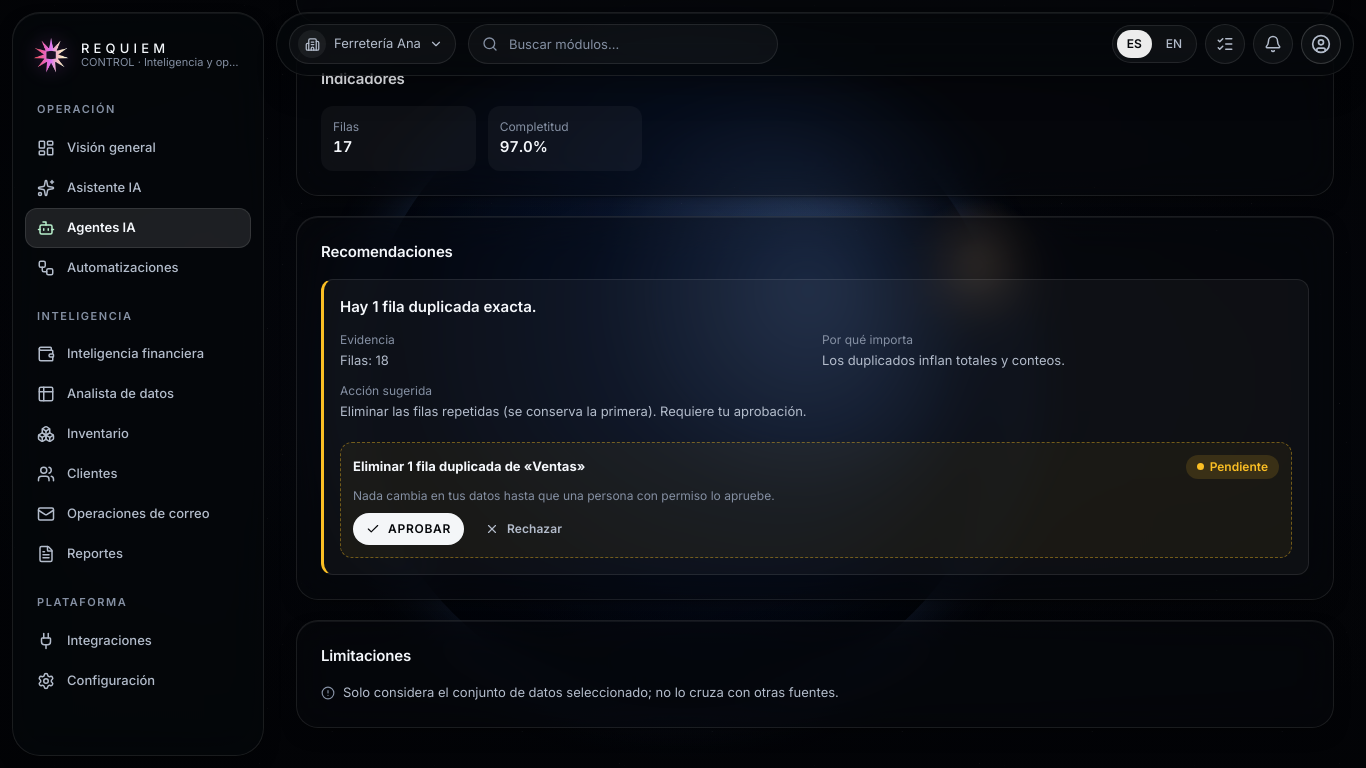
it: AI agents › labels simulated summaries and lets an admin approve a proposed action
(page scrolled)
Expected: the text "Hay 1 fila duplicada exacta." is shown, [340,297,537,316]
Expected: the text "Filas: 18" is shown, [340,352,389,368]
What coordinates should you click on to do the following:
click the button "Aprobar"
I would click on:
 (408, 528)
Its box is [353,512,464,544].
(page scrolled)
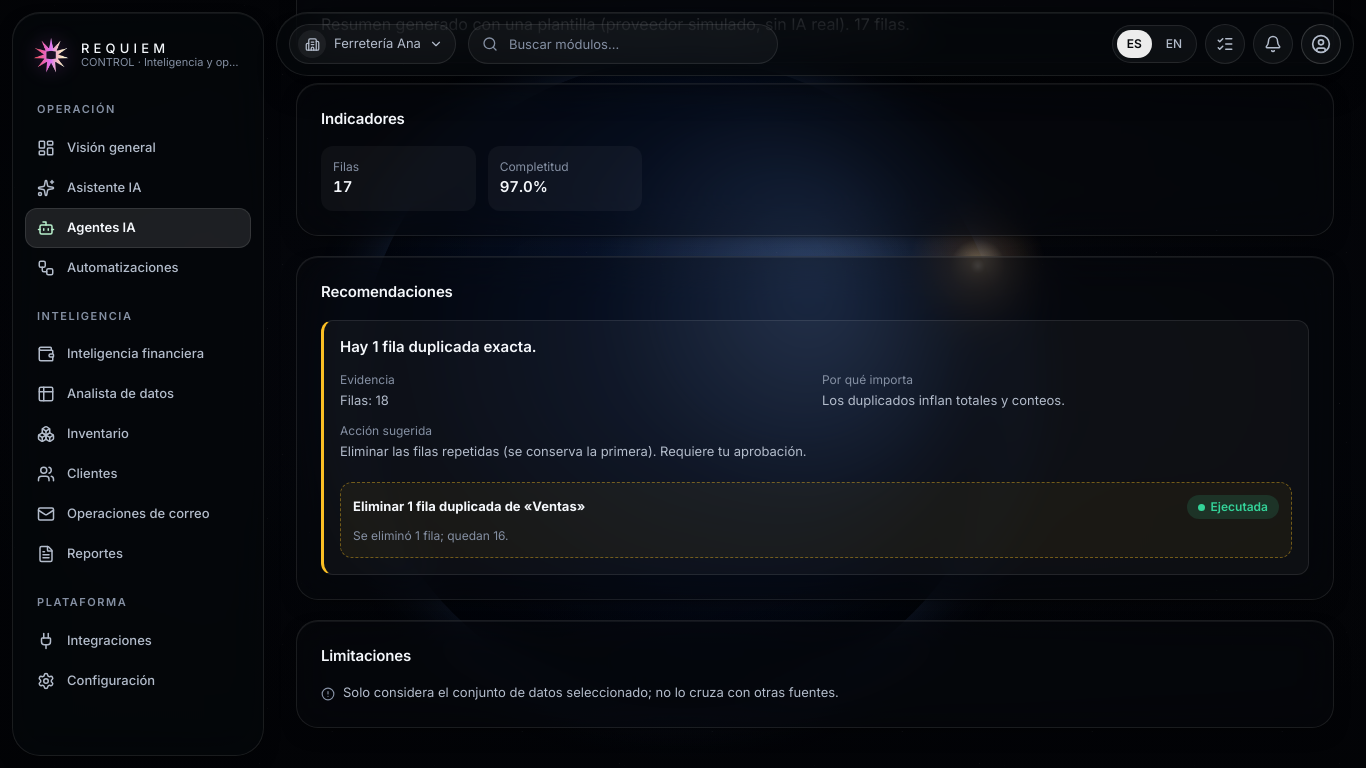
Expected: the text "Se eliminó 1 fila; quedan 16." is shown, [353,528,509,543]
